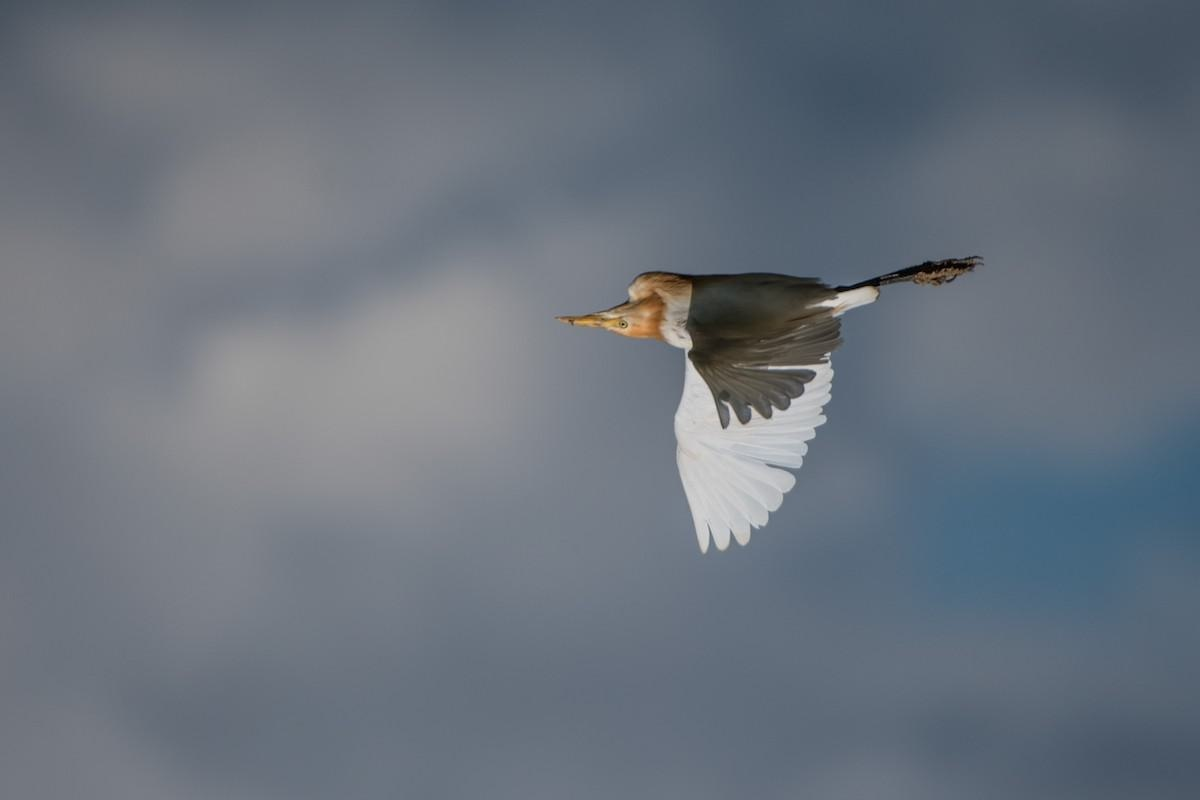egret: (564, 248, 999, 539)
